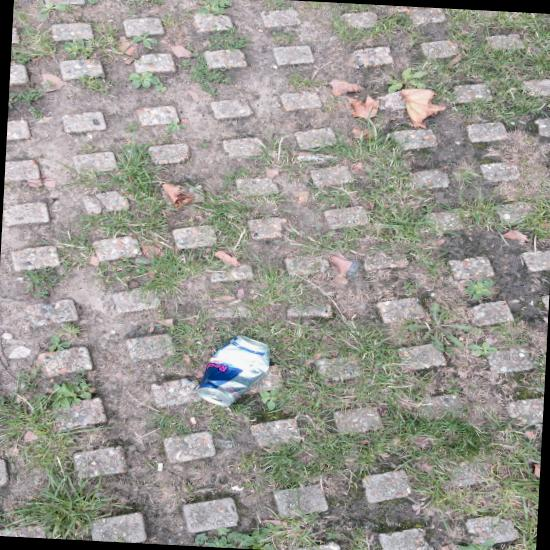Other plastic: (316, 456, 346, 474)
Plastic film: (148, 250, 289, 401), (376, 482, 403, 496)
